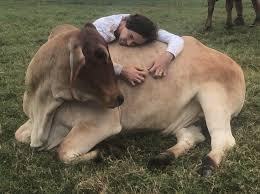cow: (16, 22, 248, 174)
